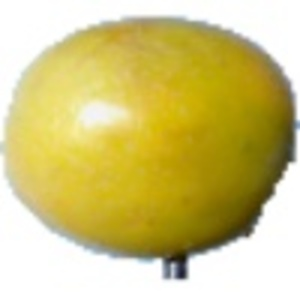maracujá: (1, 15, 300, 282)
